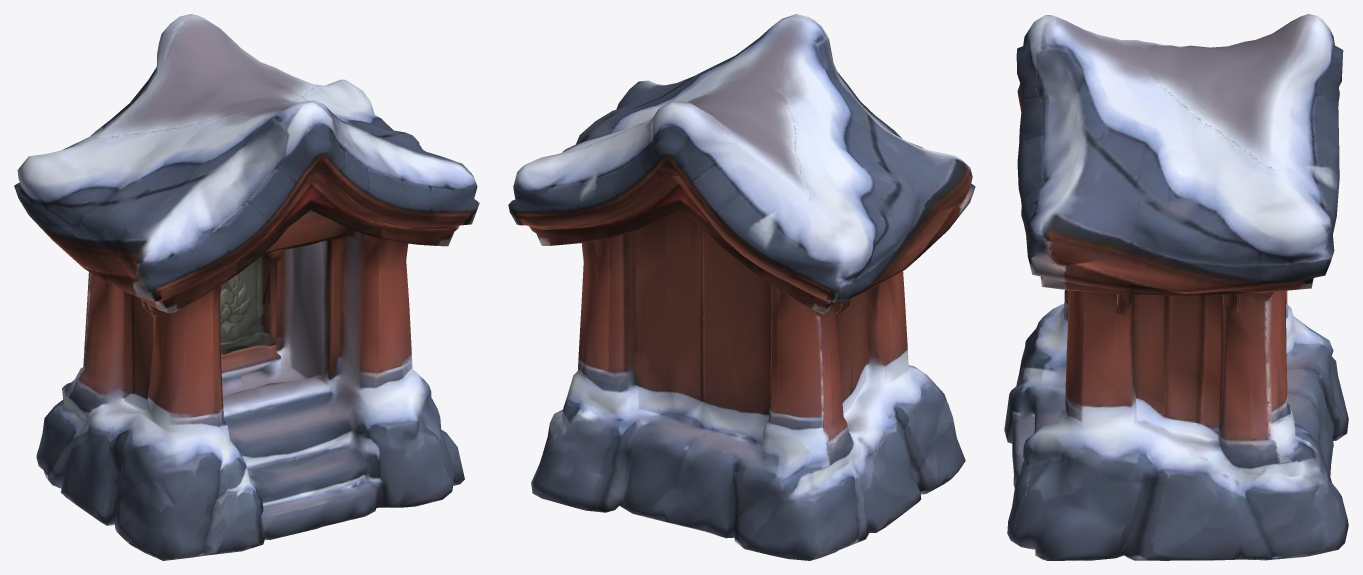
The model's file is SM_Env_FrostWayshrine.glb.
The picture shows the model from 3 angles, left to right: view 1: azimuth 30°, elevation 25°; view 2: azimuth 150°, elevation 25°; view 3: azimuth 270°, elevation 25°; orthographic projection. The views are drawn at different scales.
Parts seen in each view (by area): view 1: SM_Env_FrostWayshrine_LOD0; view 2: SM_Env_FrostWayshrine_LOD0; view 3: SM_Env_FrostWayshrine_LOD0.
Part boxes in pixels (bbox=[...]): SM_Env_FrostWayshrine_LOD0: bbox=[14, 14, 479, 560]; SM_Env_FrostWayshrine_LOD0: bbox=[508, 14, 975, 560]; SM_Env_FrostWayshrine_LOD0: bbox=[1004, 14, 1348, 560].
Bounding box in the file's own units: 4.19 × 4.84 × 3.3.
Materials: 1 (1 with a texture image).
